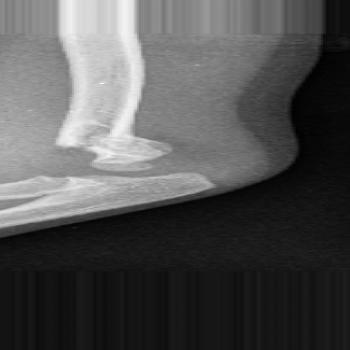Fracture: (40, 140, 104, 181)
